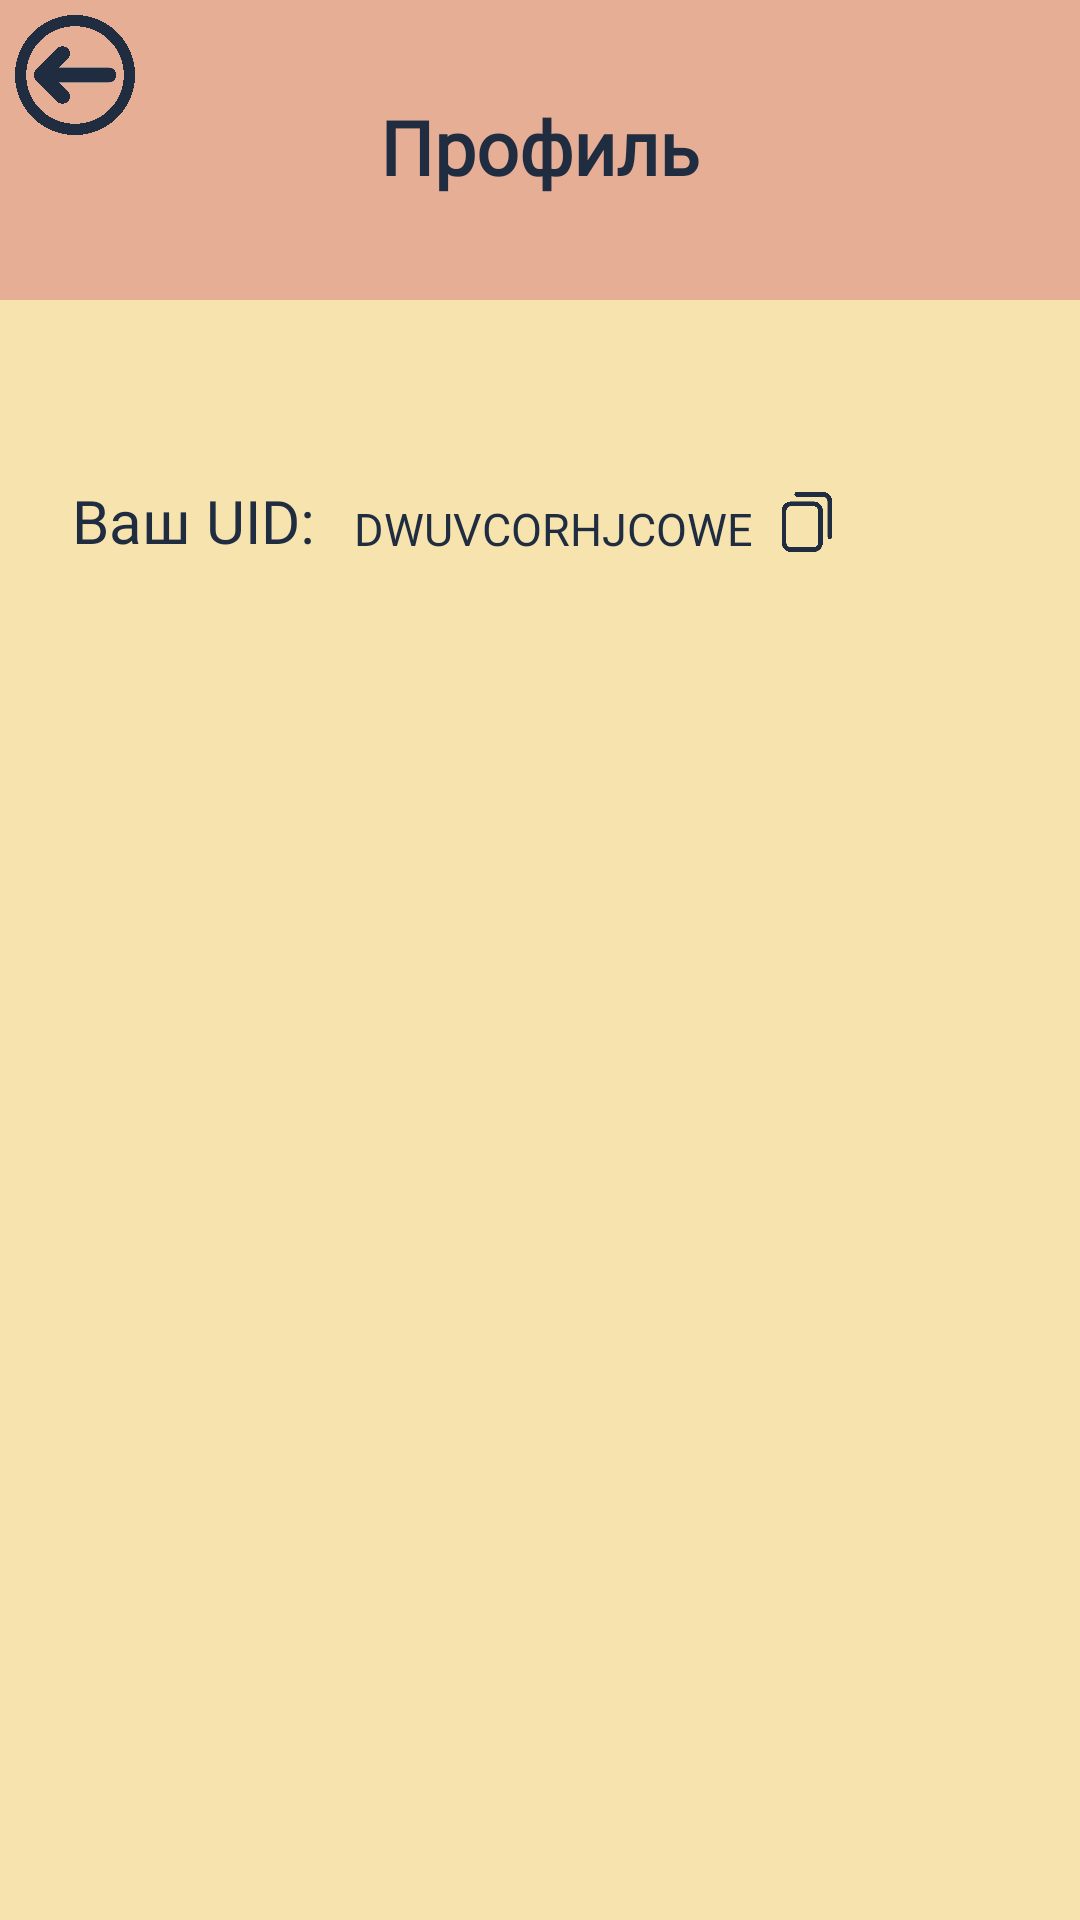

Named icons in this screenshot (1080*1920) and their bounding boxes, (x1, y1, x2, y2):
backbutton: (15, 15, 135, 135)
